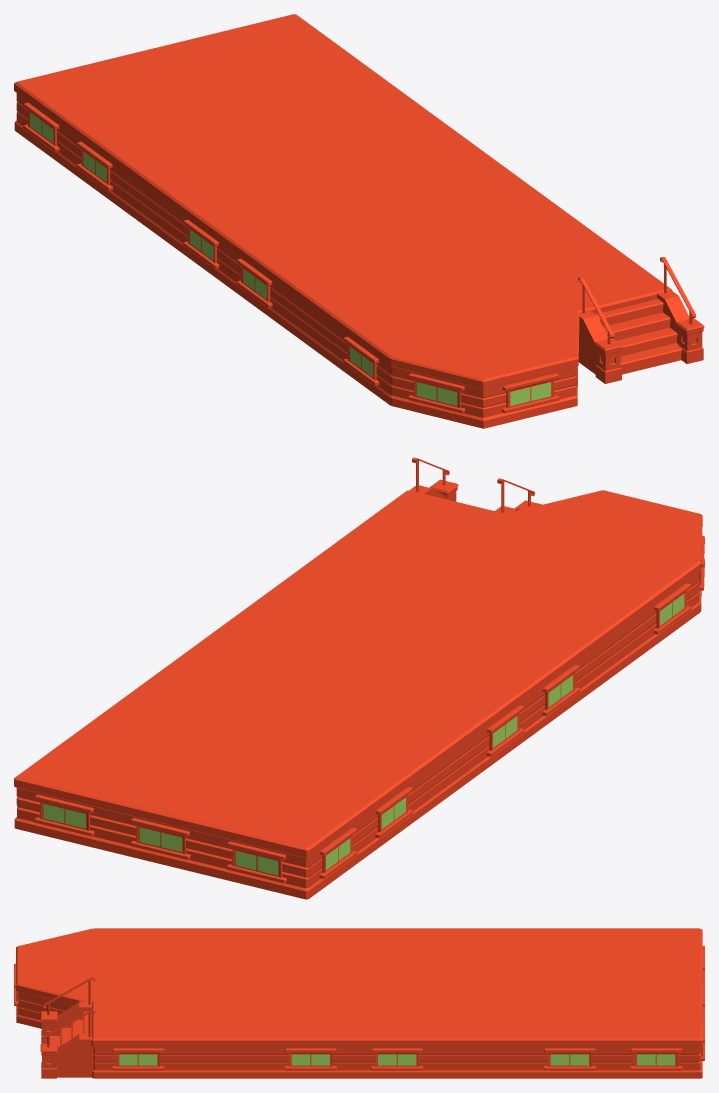
File: SM_Bayhouse_Bottom_Small_A_AS_City.fbx
The picture shows the model from 3 angles, top to bottom: view 1: azimuth 30°, elevation 25°; view 2: azimuth 150°, elevation 25°; view 3: azimuth 270°, elevation 25°; orthographic projection. The views are drawn at different scales.
Parts seen in each view (by area): view 1: SM_Bayhouse_Bottom_Small_A_AS_City; view 2: SM_Bayhouse_Bottom_Small_A_AS_City; view 3: SM_Bayhouse_Bottom_Small_A_AS_City.
Boxes of the visible parts, x1,y1,x2,y2 form: SM_Bayhouse_Bottom_Small_A_AS_City: (14, 14, 704, 428); SM_Bayhouse_Bottom_Small_A_AS_City: (14, 457, 704, 899); SM_Bayhouse_Bottom_Small_A_AS_City: (14, 928, 704, 1078).
Bounding box in the file's own units: 6.19 × 1.67 × 15.88.
